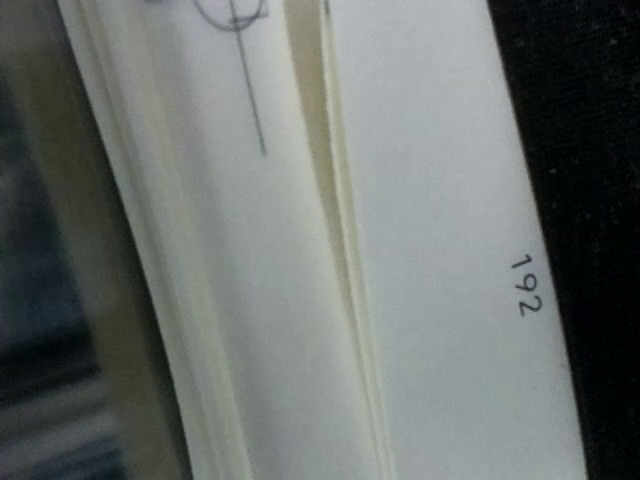not_sure: (186, 1, 274, 35)
